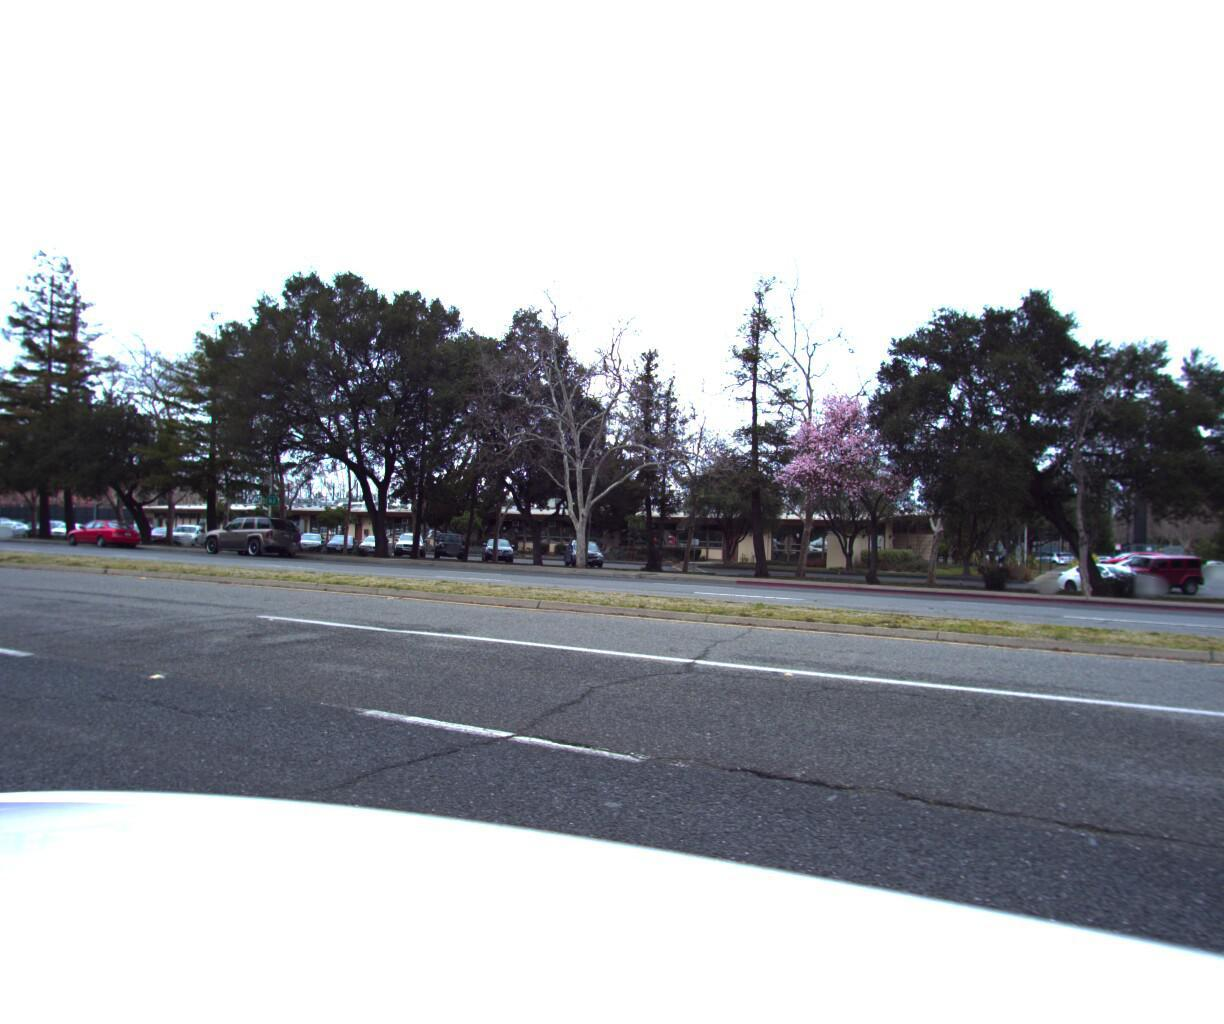car: (201, 521, 307, 567), (67, 528, 149, 556)
